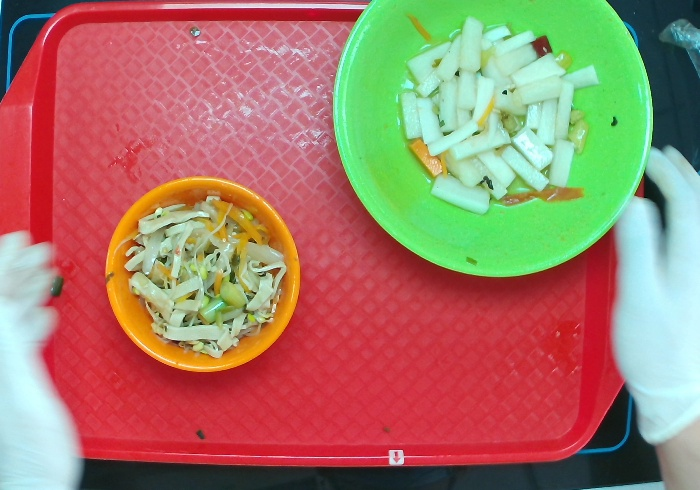YKMZ-Ju_Se_Yuan_Wan: (104, 176, 300, 374)
YKMZ-Lv_Se_Tang_Wan: (331, 1, 654, 279)
